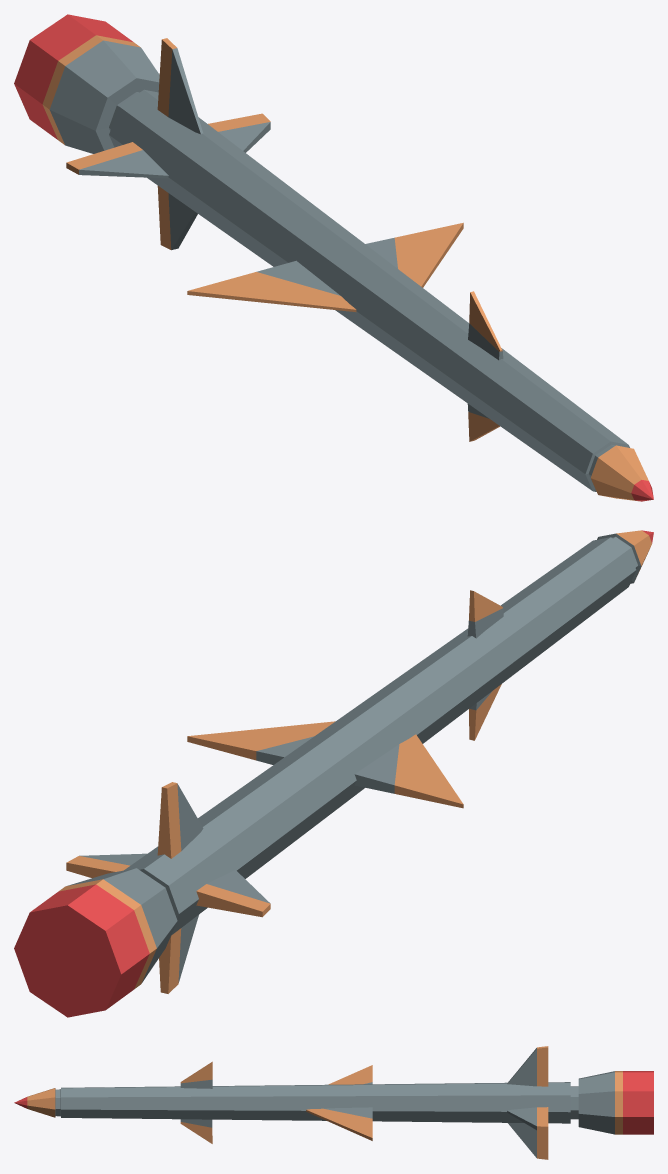
Rendered from MISIL.fbx.
The picture shows the model from 3 angles, top to bottom: view 1: azimuth 30°, elevation 25°; view 2: azimuth 150°, elevation 25°; view 3: azimuth 270°, elevation 25°; orthographic projection. The views are drawn at different scales.
Parts seen in each view (by area): view 1: Cube.003; view 2: Cube.003; view 3: Cube.003.
Boxes of the visible parts, x1,y1,x2,y2 form: Cube.003: (14, 14, 653, 501); Cube.003: (14, 530, 653, 1017); Cube.003: (14, 1046, 653, 1159).
Bounding box in the file's own units: 1090 × 774 × 4003.
